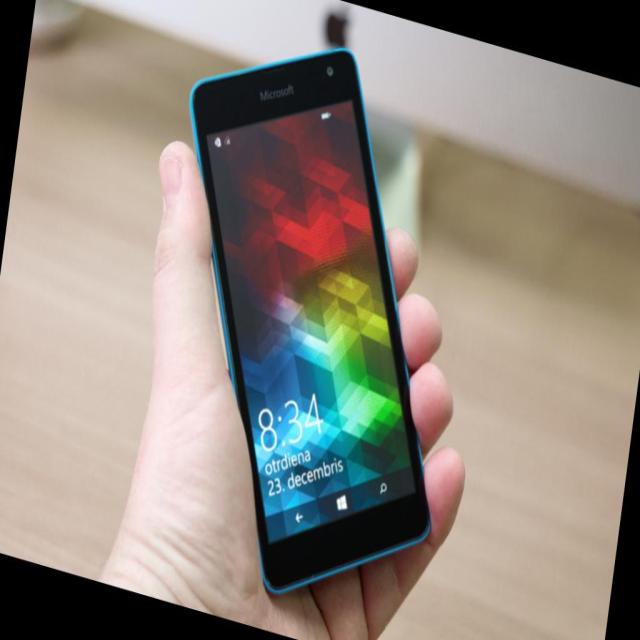handphone: (187, 46, 429, 591)
